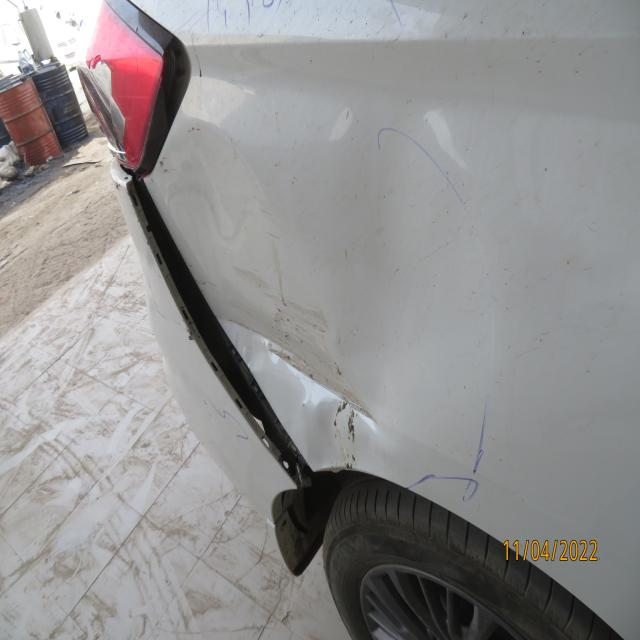damage: (203, 39, 499, 479), (124, 183, 301, 483), (80, 15, 126, 178)
